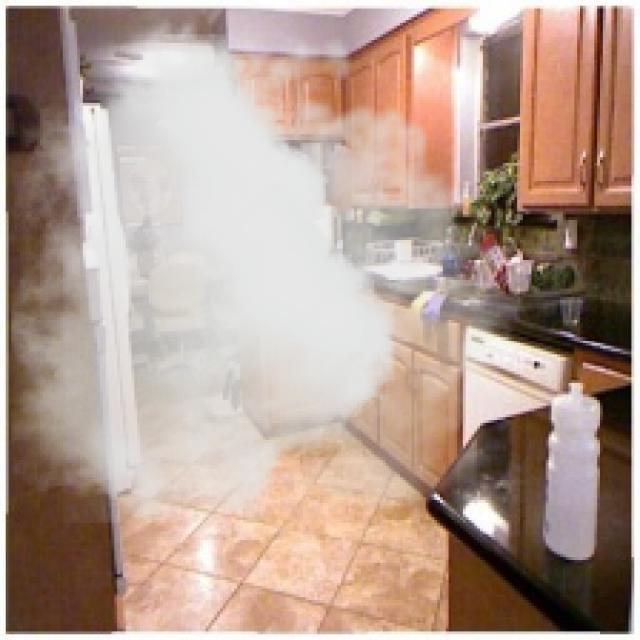Smoke: (11, 3, 532, 523)
